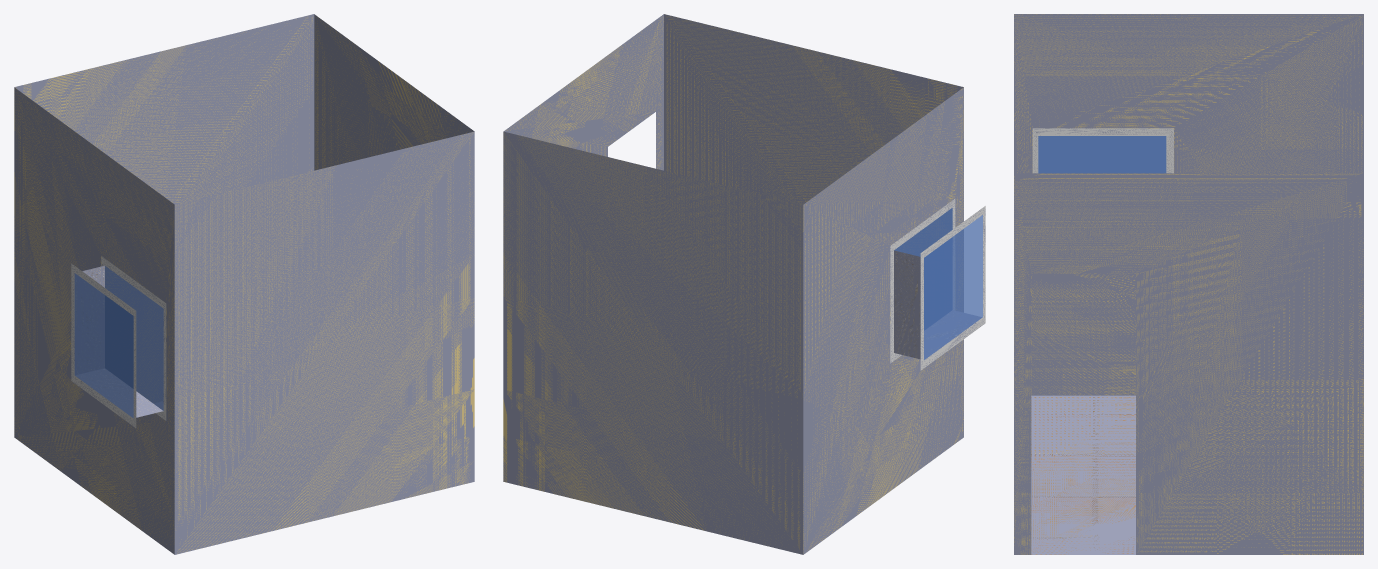
Rendered from DES042.obj.
3 views of the same model, side by side, from view 1: azimuth 30°, elevation 25°; view 2: azimuth 150°, elevation 25°; view 3: azimuth 270°, elevation 25° (orthographic). The views are drawn at different scales.
Visible parts, largest first — view 1: Mesh5 DES042 Model, Mesh1 Group1 DES042 Model; view 2: Mesh5 DES042 Model, Mesh1 Group1 DES042 Model; view 3: Mesh5 DES042 Model, Mesh1 Group1 DES042 Model.
Boxes of the visible parts, bbox=[...] form: Mesh5 DES042 Model: bbox=[14, 14, 474, 554]; Mesh1 Group1 DES042 Model: bbox=[71, 256, 166, 427]; Mesh5 DES042 Model: bbox=[503, 14, 963, 554]; Mesh1 Group1 DES042 Model: bbox=[890, 199, 985, 370]; Mesh5 DES042 Model: bbox=[1014, 14, 1363, 554]; Mesh1 Group1 DES042 Model: bbox=[1032, 128, 1173, 173].
Bounding box in the file's own units: 2.96 × 3 × 2.49.
6 materials, 2 textured.
